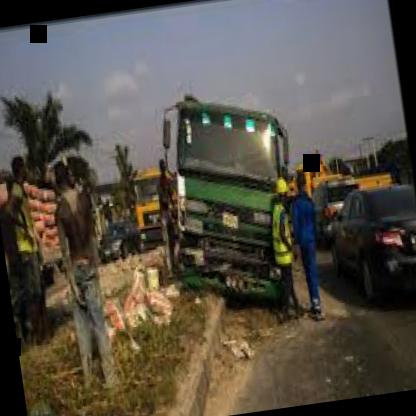accident: (99, 70, 324, 378)
